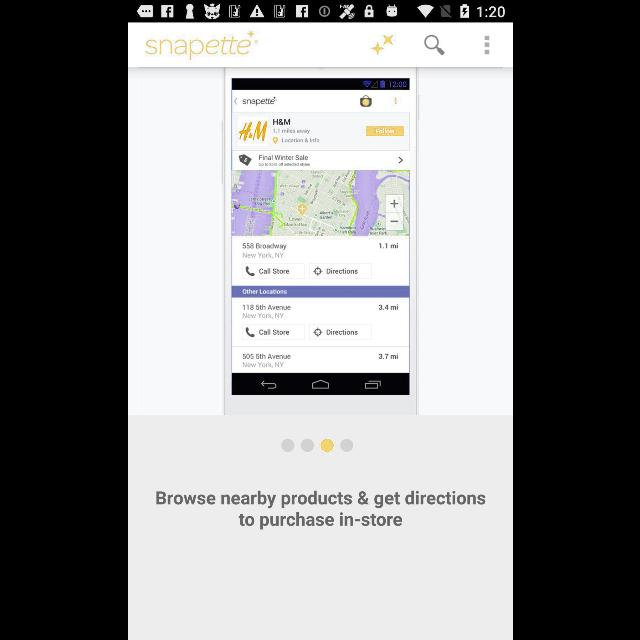icon: (424, 34, 444, 56), (483, 36, 489, 54)
image: (222, 68, 418, 416), (145, 30, 257, 60), (371, 35, 393, 55)
pageindicator: (280, 439, 354, 453)
text: (156, 490, 484, 530)
toolbar: (128, 23, 512, 67)
uppertaskbar: (128, 1, 512, 23)
